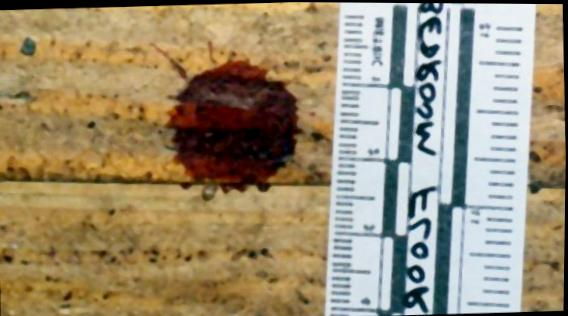Fire: (160, 39, 303, 200)
